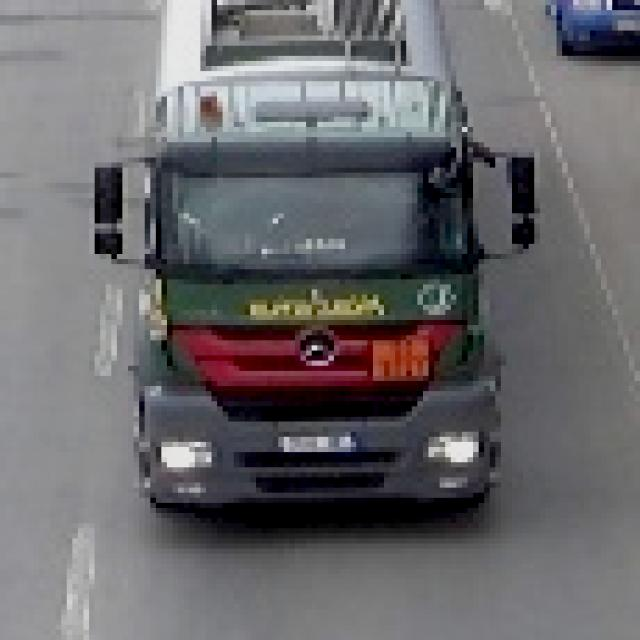truck: (85, 1, 536, 514)
